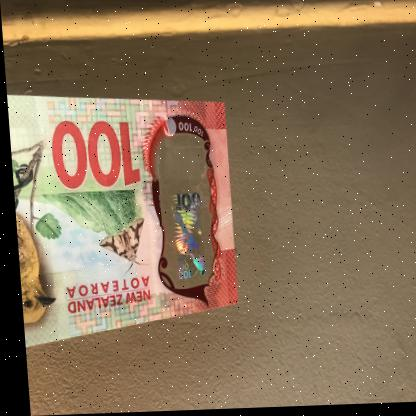100B: (158, 144, 206, 283)
